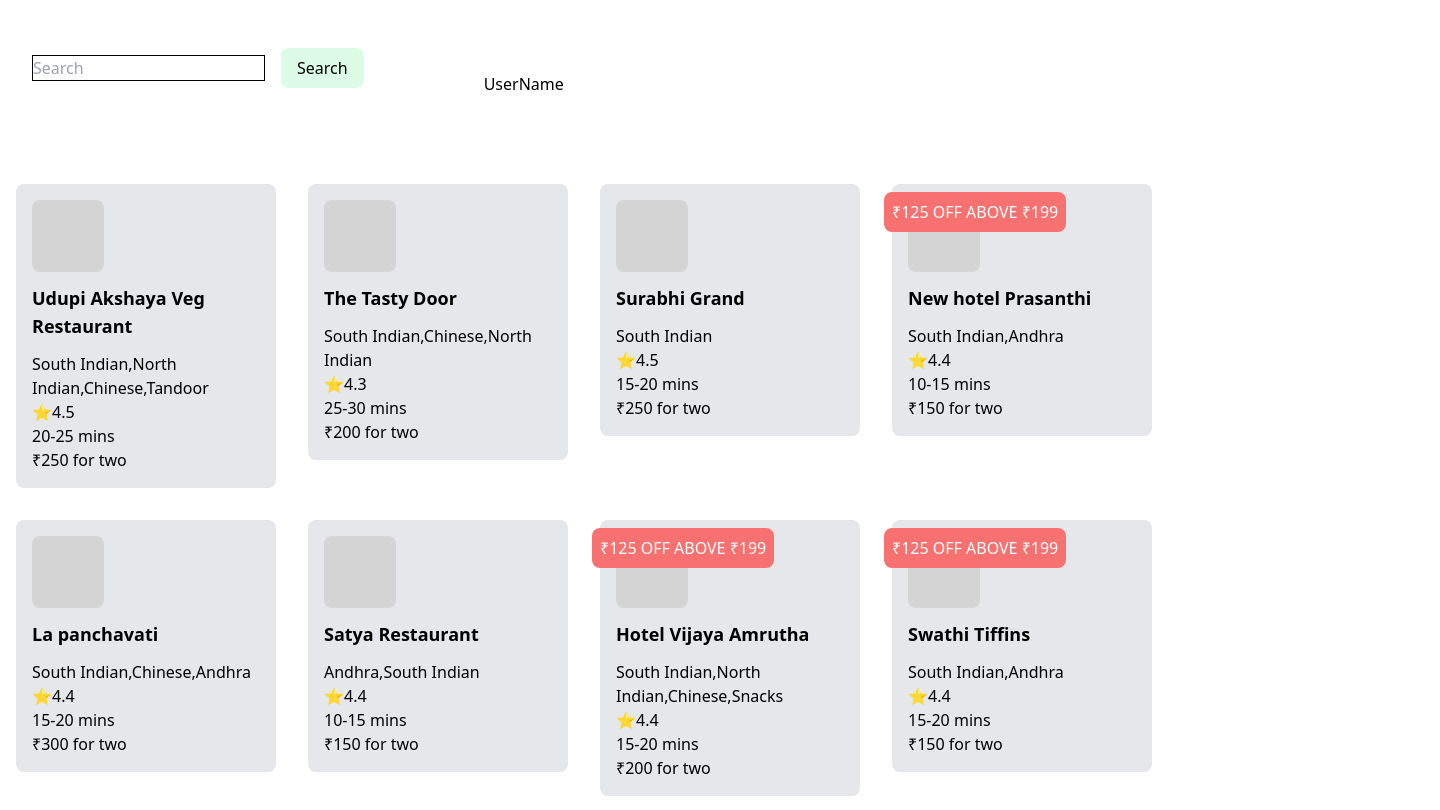
Scenario: should search res list for panchavati text input
Step 1. Type "panchavati" into the field with test id "searchInput" → (148, 68), box [32,55,265,81]
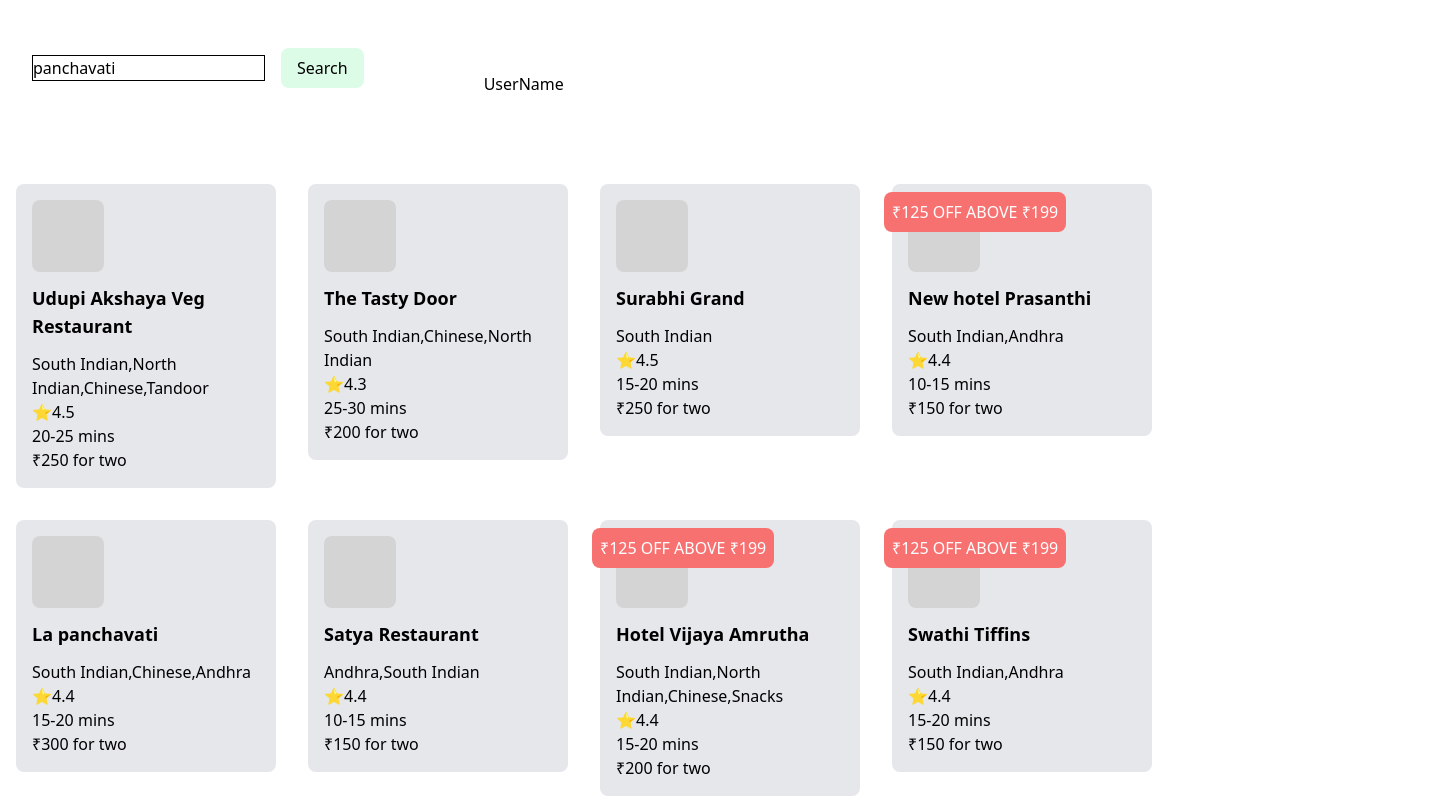
Step 2. Click the button "Search" → (322, 68), box [281,48,364,88]
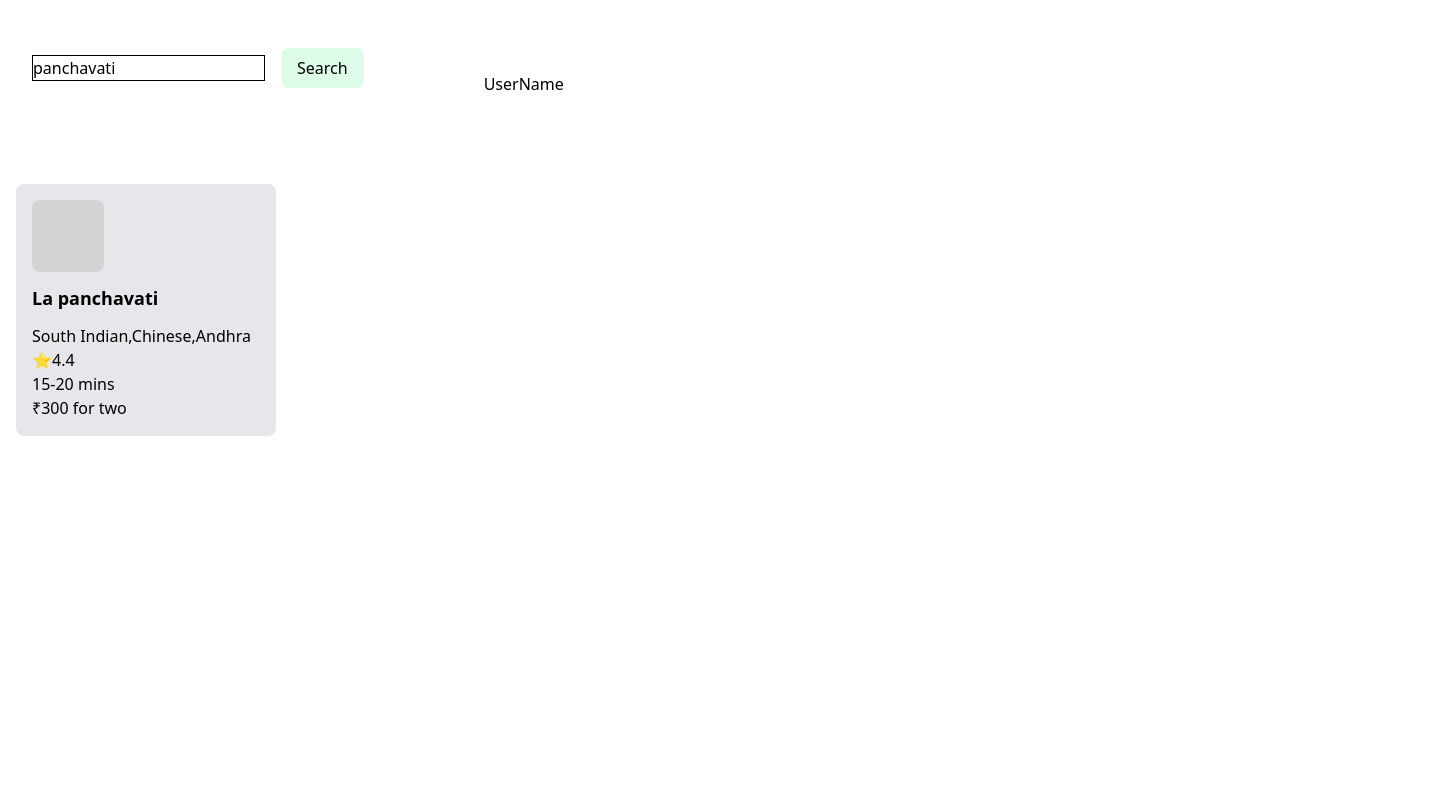
Check: the number of elements with test id "resCard" is 1, box [16,184,276,436]
